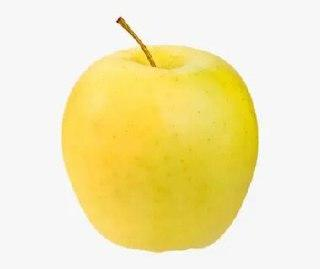Apple: (62, 44, 260, 252)
